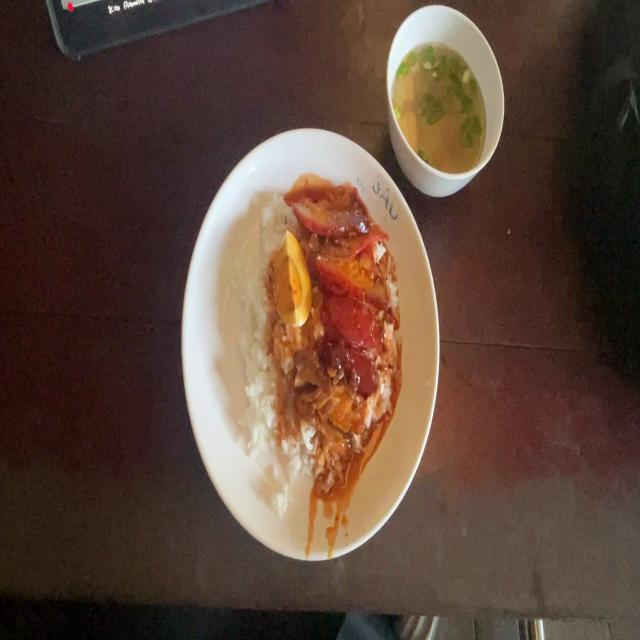01boiled_egg: (273, 232, 311, 322)
01chainese_sausage: (324, 296, 380, 388)
01crispy_pork: (306, 386, 362, 454)
01red_pork: (311, 234, 388, 288), (297, 192, 364, 230)
01red_pork_and_crispy_pork: (252, 191, 384, 473)
01rice: (241, 236, 274, 468), (274, 412, 307, 489), (260, 193, 296, 244)
